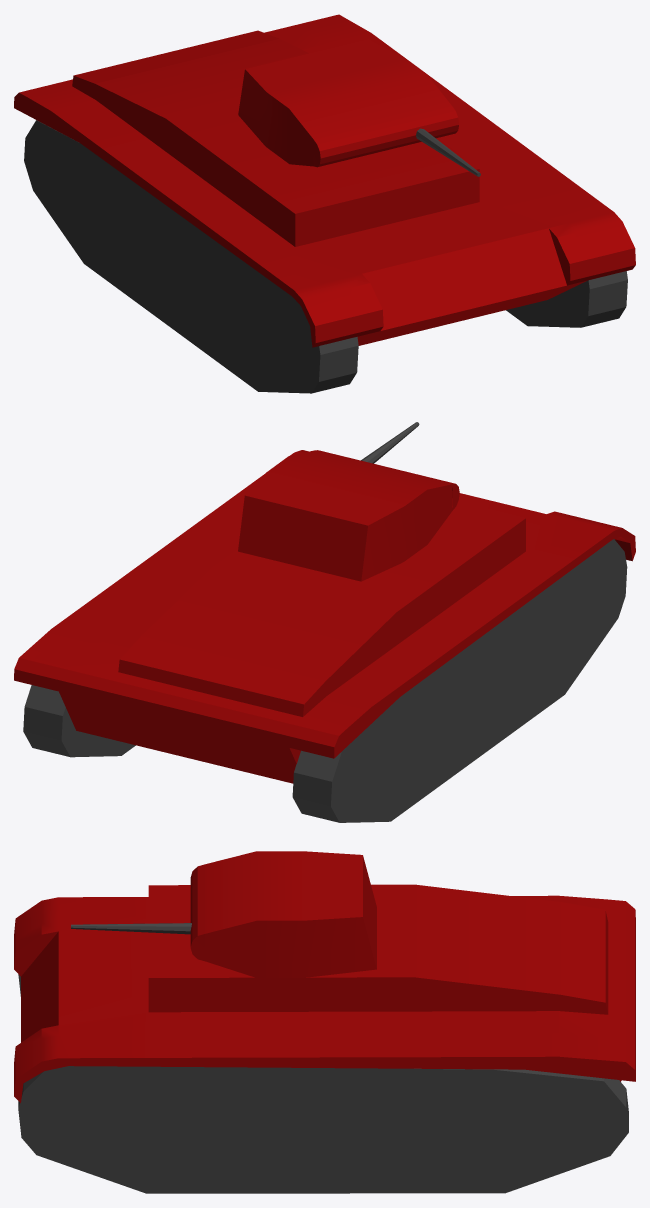
File: PanzerII.fbx
3 views of the same model, one above another, from view 1: azimuth 30°, elevation 25°; view 2: azimuth 150°, elevation 25°; view 3: azimuth 270°, elevation 25° (orthographic). The views are drawn at different scales.
Visible parts, largest first — view 1: Chassis, TreadR, Top, TreadL, Cannon; view 2: Chassis, TreadR, Top, TreadL; view 3: Chassis, TreadL, Top, Cannon.
Boxes of the visible parts, x1=… form: Chassis: x1=14, y1=14, x2=635, y2=347; TreadR: x1=24, y1=120, x2=358, y2=393; Top: x1=238, y1=39, x2=458, y2=167; TreadL: x1=506, y1=271, x2=627, y2=327; Cannon: x1=416, y1=128, x2=480, y2=176; Chassis: x1=14, y1=450, x2=635, y2=783; TreadR: x1=292, y1=539, x2=627, y2=822; Top: x1=238, y1=450, x2=459, y2=581; TreadL: x1=23, y1=685, x2=135, y2=757; Chassis: x1=14, y1=884, x2=635, y2=1103; TreadL: x1=18, y1=1066, x2=628, y2=1193; Top: x1=190, y1=851, x2=376, y2=977; Cannon: x1=71, y1=923, x2=191, y2=934.
Size of the model in its own units: 2.92 by 1.95 by 4.77.
